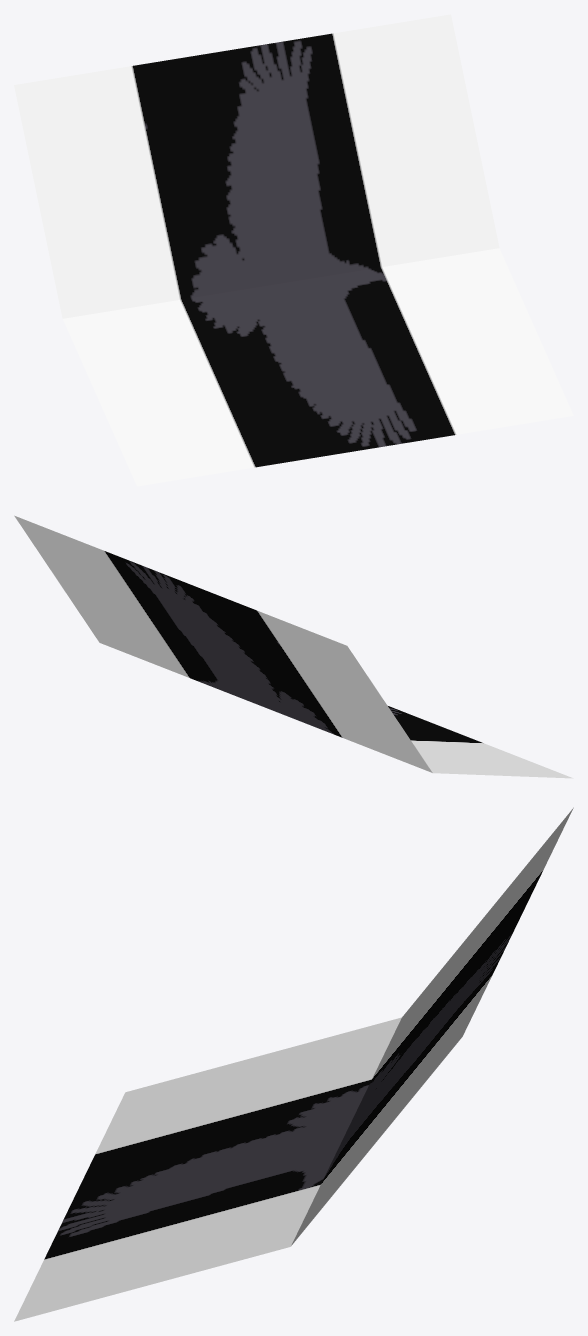
Rendered from eagle2.gltf.
The picture shows the model from 3 angles, top to bottom: view 1: azimuth 30°, elevation 25°; view 2: azimuth 150°, elevation 25°; view 3: azimuth 270°, elevation 25°; orthographic projection. The views are drawn at different scales.
Visible parts, largest first — view 1: Eagle; view 2: Eagle; view 3: Eagle.
Part boxes in pixels (bbox=[...]): Eagle: bbox=[14, 14, 573, 486]; Eagle: bbox=[14, 515, 573, 778]; Eagle: bbox=[14, 807, 573, 1321].
Bounding box in the file's own units: 0.4931 × 0.2767 × 0.4266.
1 material, 1 textured.
